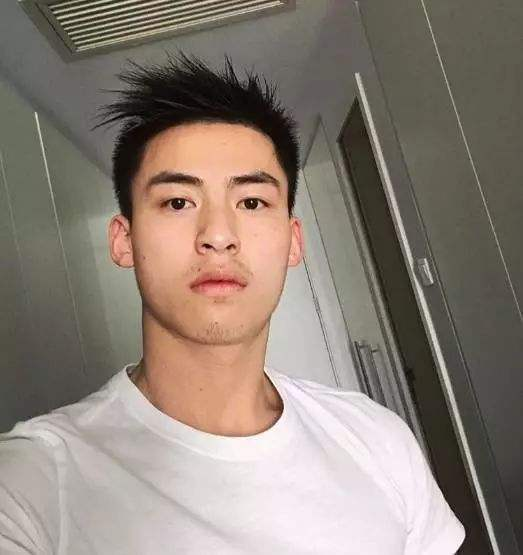person: (111, 63, 413, 532)
